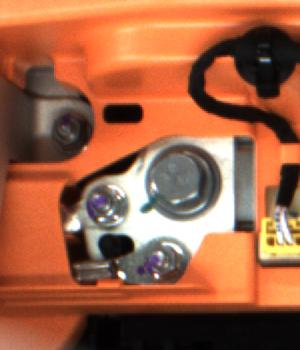nut_b: (139, 146, 232, 220)
screw_s: (80, 184, 130, 228), (41, 112, 87, 153), (142, 246, 187, 279)
